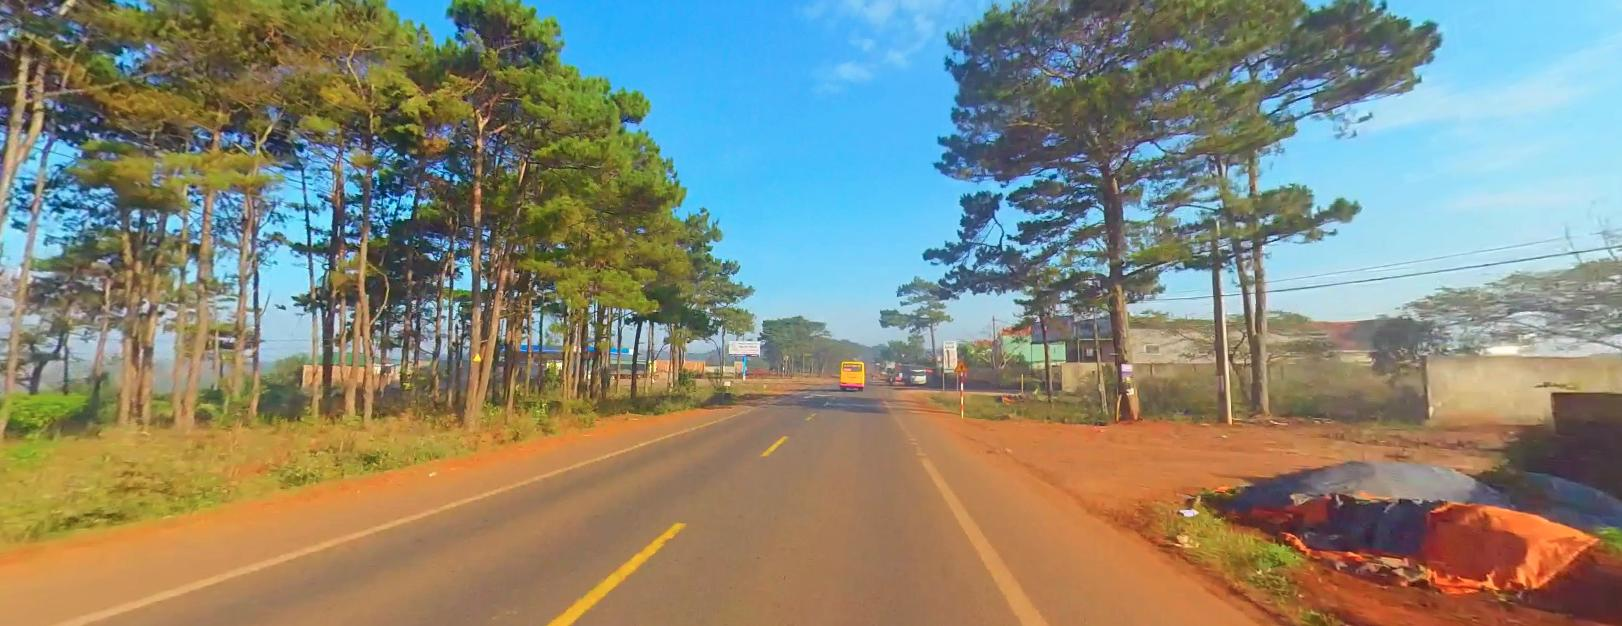Nguy hiem: (953, 357, 967, 369)
